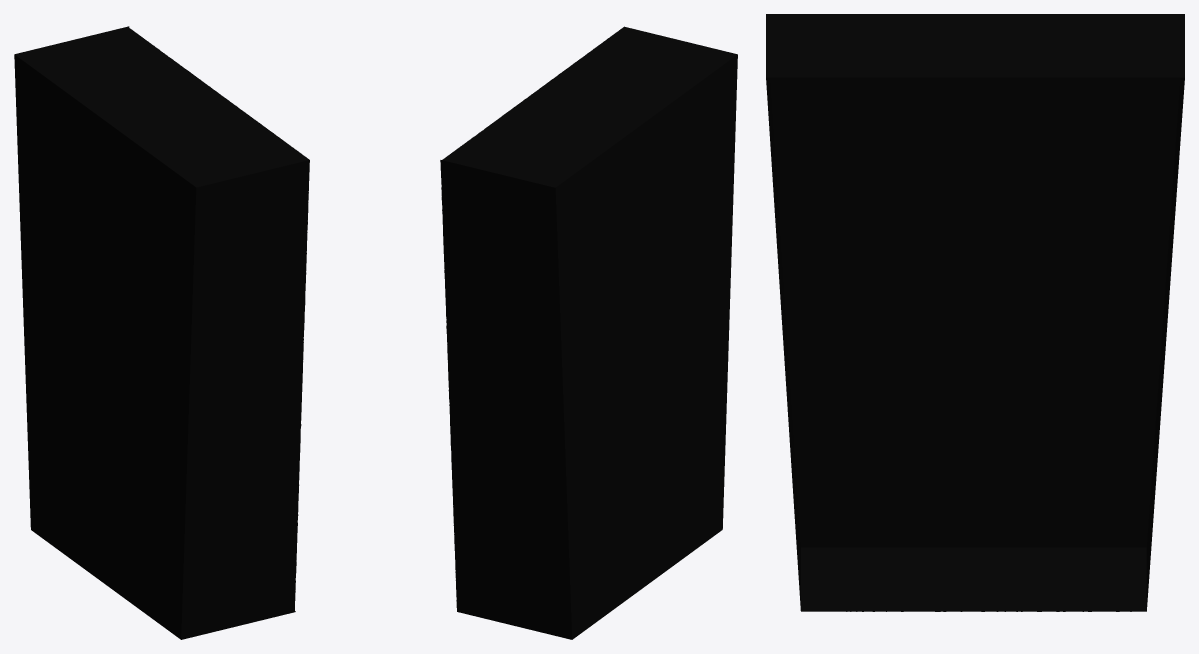
Rendered from WallDoorShade.fbx.
3 views of the same model, side by side, from view 1: azimuth 30°, elevation 25°; view 2: azimuth 150°, elevation 25°; view 3: azimuth 270°, elevation 25° (orthographic). The views are drawn at different scales.
Visible parts, largest first — view 1: DOOR_Shade; view 2: DOOR_Shade; view 3: DOOR_Shade.
Part boxes in pixels (x1,y1,x2,y2): DOOR_Shade: (14,26,309,639); DOOR_Shade: (440,26,737,639); DOOR_Shade: (766,14,1184,611).
Size of the model in its own units: 3.8 by 10.19 by 7.26.
1 material, 1 textured.
